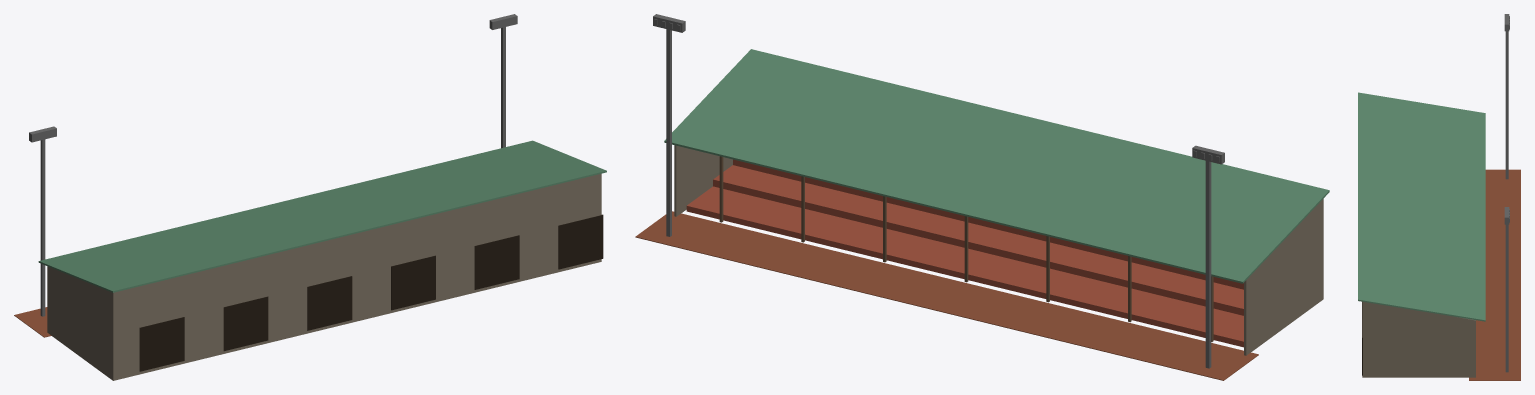
File: league_stadium.meshopt.glb
The picture shows the model from 3 angles, left to right: view 1: azimuth 30°, elevation 25°; view 2: azimuth 150°, elevation 25°; view 3: azimuth 270°, elevation 25°; orthographic projection. The views are drawn at different scales.
Visible parts, largest first — view 1: wall, roof, end_w, window_rear_1, window_rear_4, window_rear_5, window_rear_0, window_rear_2, window_rear_3, light_w_mast, light_e_mast, dirt; view 2: roof, dirt, seat_2, seat_1, end_w, seat_0, end_e, light_w_mast, light_e_mast; view 3: roof, dirt, end_e, light_w_mast, light_e_mast.
Part boxes in pixels (x1=…): wall: x1=113, y1=173, x2=601, y2=380; roof: x1=38, y1=140, x2=606, y2=292; end_w: x1=47, y1=266, x2=113, y2=380; window_rear_1: x1=223, y1=296, x2=268, y2=351; window_rear_4: x1=474, y1=235, x2=519, y2=289; window_rear_5: x1=558, y1=214, x2=603, y2=269; window_rear_0: x1=139, y1=317, x2=184, y2=371; window_rear_2: x1=307, y1=276, x2=352, y2=330; window_rear_3: x1=391, y1=255, x2=435, y2=310; light_w_mast: x1=40, y1=139, x2=45, y2=316; light_e_mast: x1=501, y1=27, x2=505, y2=148; dirt: x1=14, y1=307, x2=51, y2=337; roof: x1=664, y1=49, x2=1329, y2=283; dirt: x1=635, y1=211, x2=1258, y2=380; seat_2: x1=686, y1=186, x2=1243, y2=347; seat_1: x1=713, y1=165, x2=1243, y2=315; end_w: x1=1244, y1=199, x2=1323, y2=355; seat_0: x1=733, y1=159, x2=1243, y2=289; end_e: x1=674, y1=145, x2=732, y2=216; light_w_mast: x1=1205, y1=161, x2=1211, y2=368; light_e_mast: x1=666, y1=29, x2=671, y2=236; roof: x1=1358, y1=92, x2=1485, y2=321; dirt: x1=1469, y1=169, x2=1520, y2=380; end_e: x1=1362, y1=301, x2=1475, y2=377; light_w_mast: x1=1505, y1=31, x2=1508, y2=179; light_e_mast: x1=1505, y1=224, x2=1508, y2=372.
Bounding box in the file's own units: 72 × 25.46 × 23.5.
